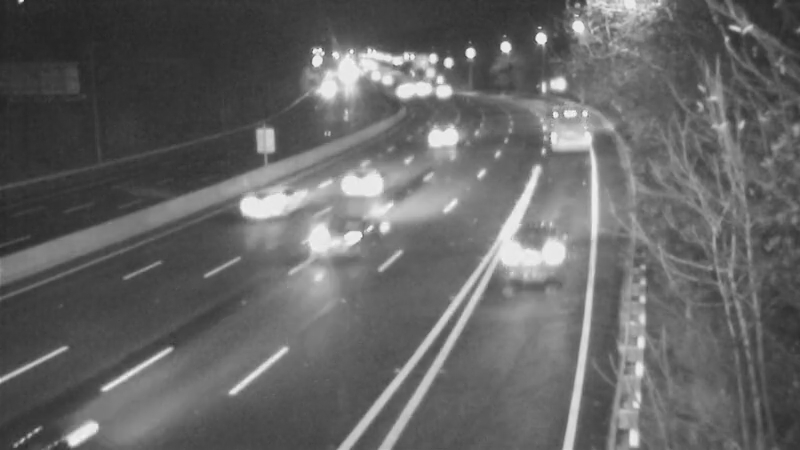vehicle: (321, 142, 401, 222), (228, 159, 308, 239), (293, 200, 373, 280), (493, 217, 573, 297), (395, 67, 445, 117), (376, 65, 426, 115), (419, 66, 469, 116), (537, 93, 587, 143), (414, 109, 464, 159)
